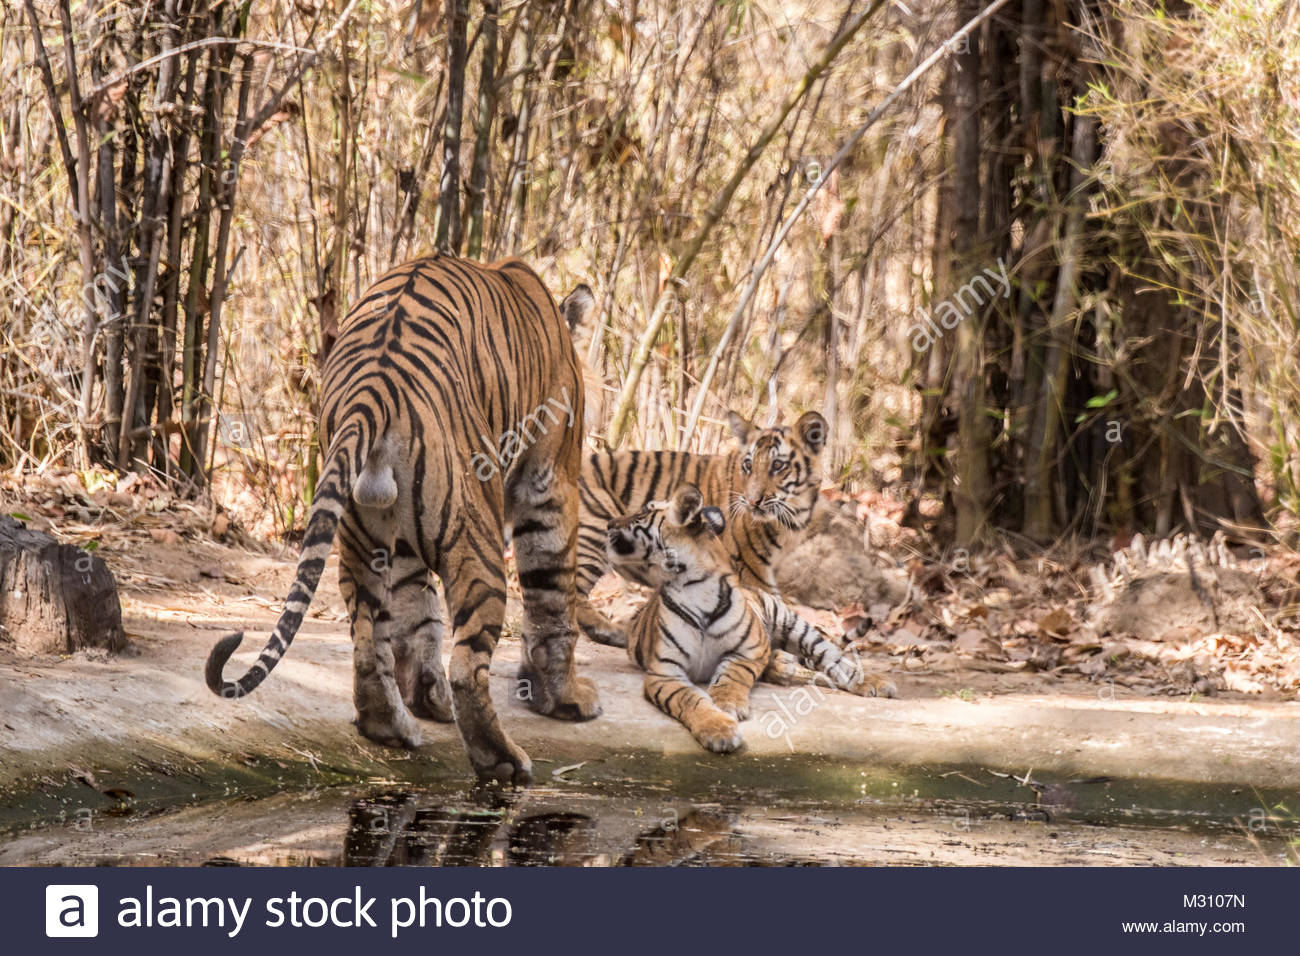tiger: (220, 253, 602, 791), (614, 483, 876, 746), (555, 402, 829, 632)
